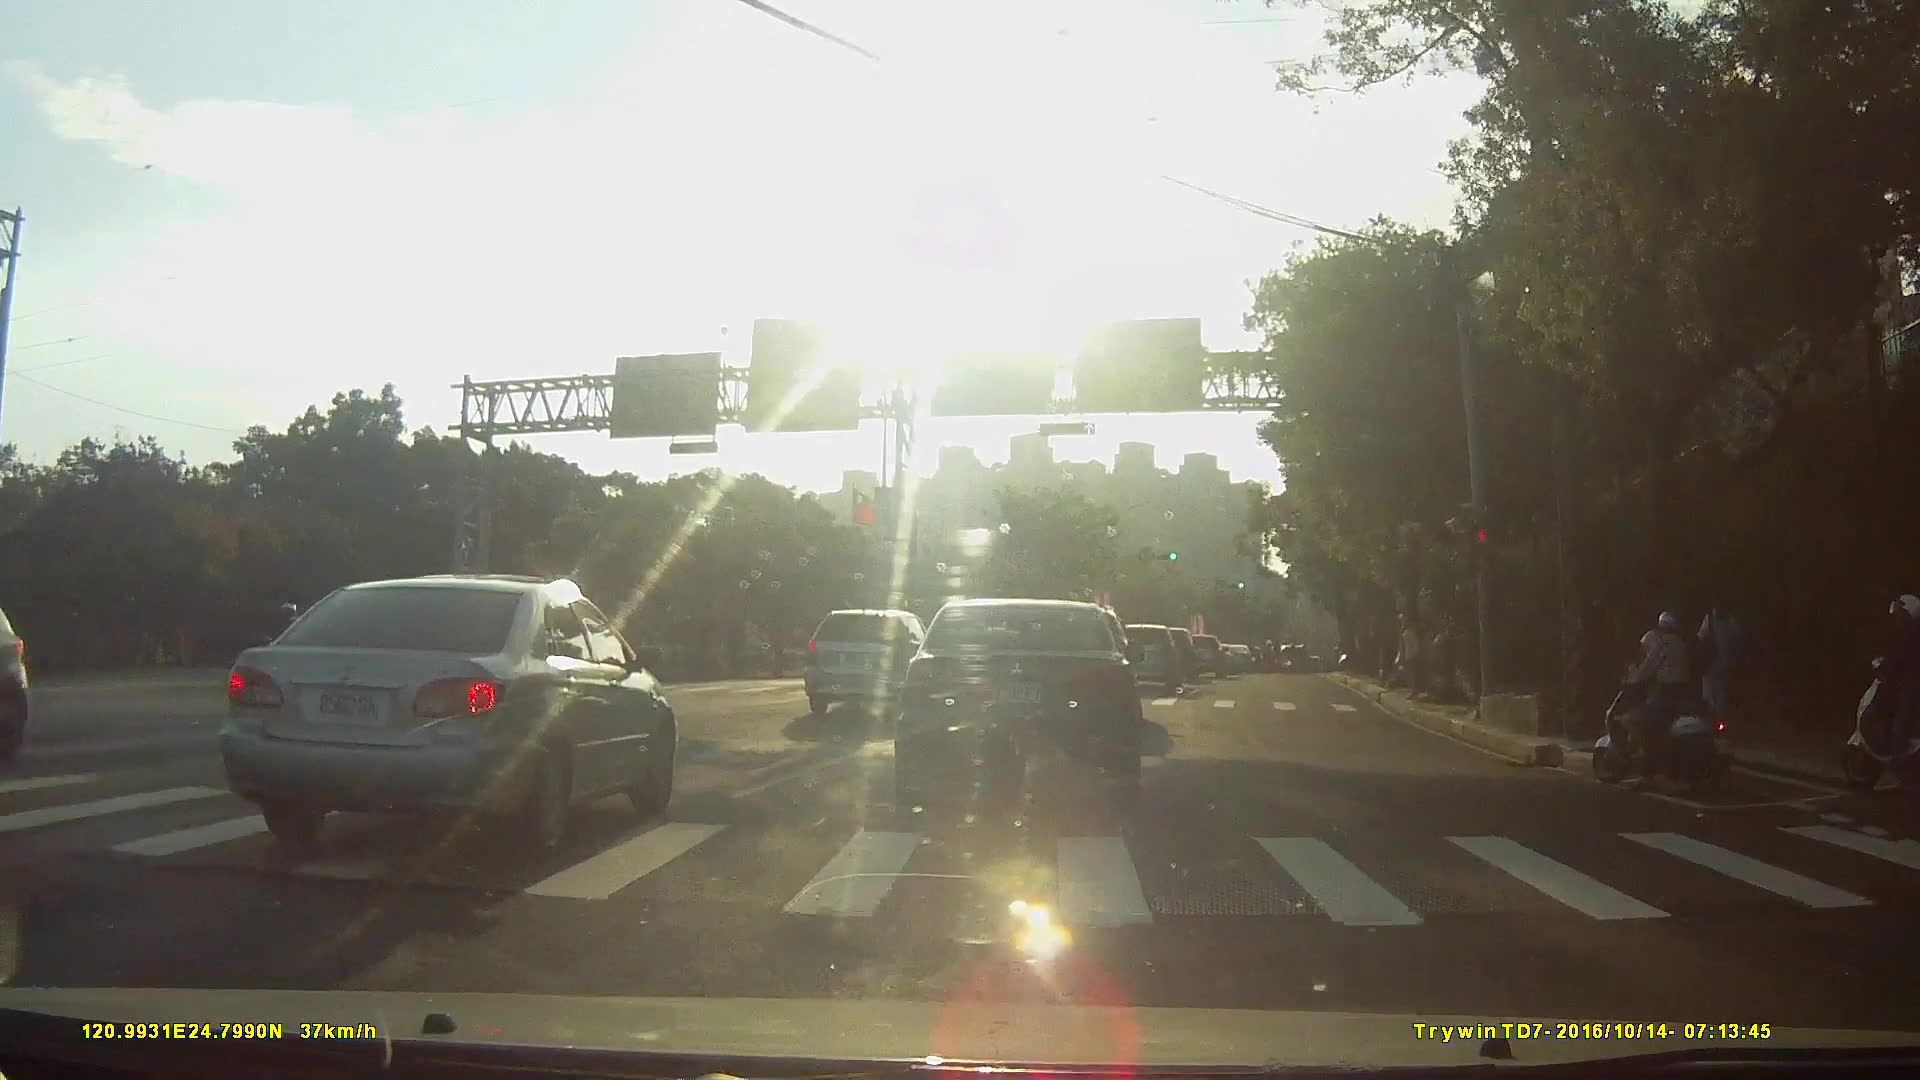pedestrian: (1692, 588, 1749, 742)
rider: (1591, 609, 1745, 800), (1835, 597, 1920, 792)
vehicle: (204, 575, 677, 860), (892, 596, 1144, 806), (800, 608, 945, 718), (1107, 622, 1181, 691), (1174, 631, 1224, 674), (1217, 642, 1254, 670)
